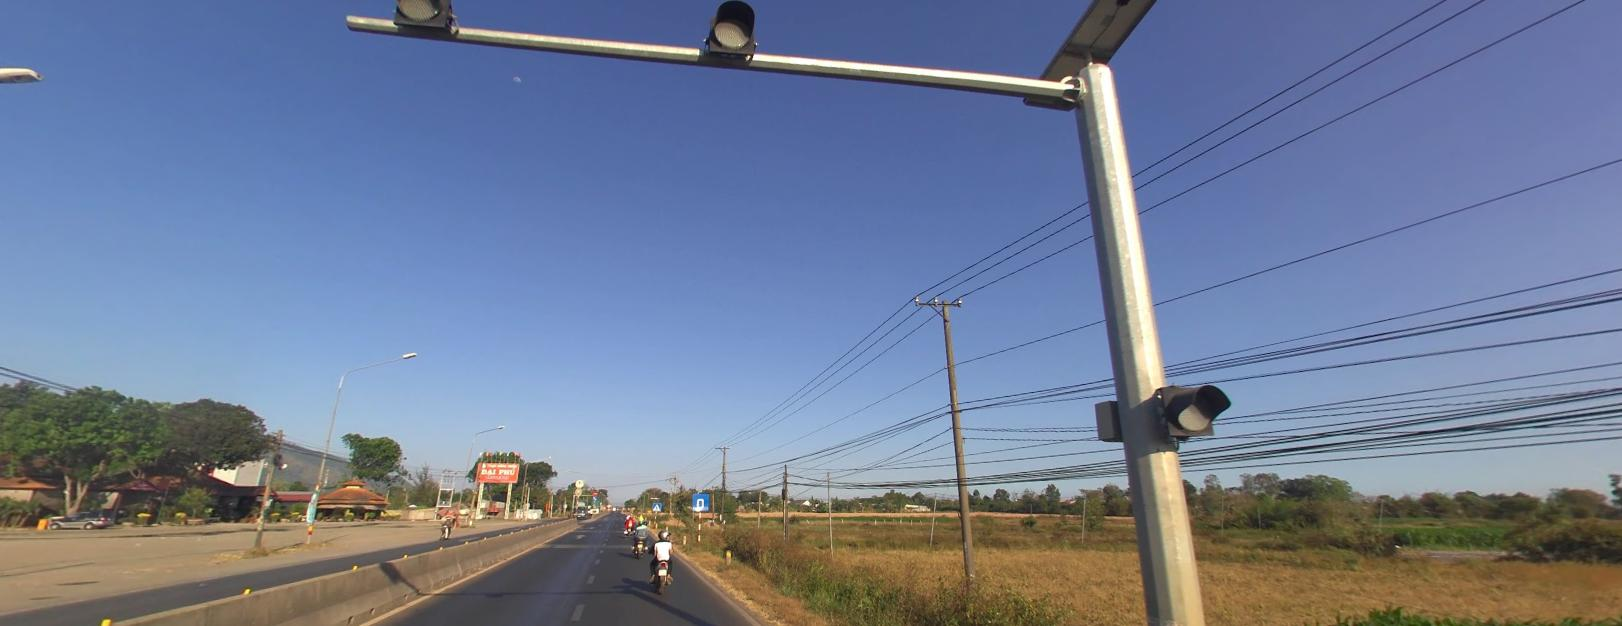Cam nguoc chieu: (591, 488, 597, 494)
Hieu lenh: (592, 494, 598, 499)
